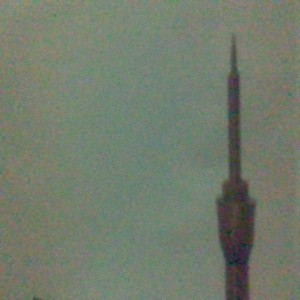solder: (214, 33, 257, 300)
